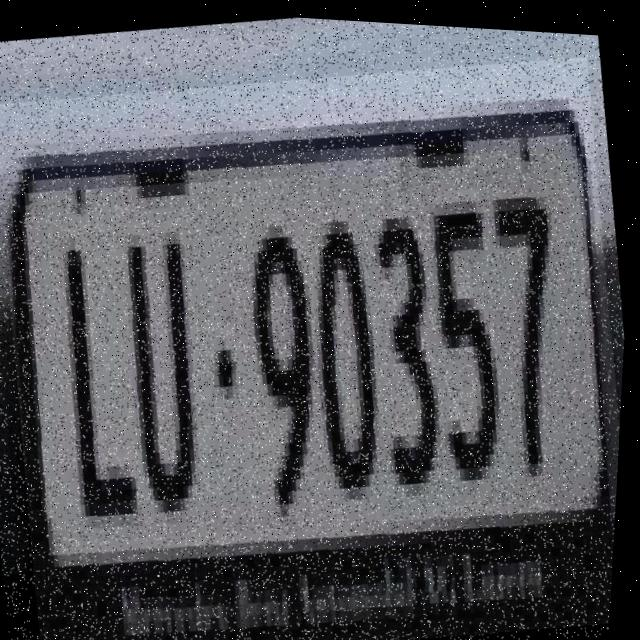LicensePlate: (0, 22, 639, 640)
